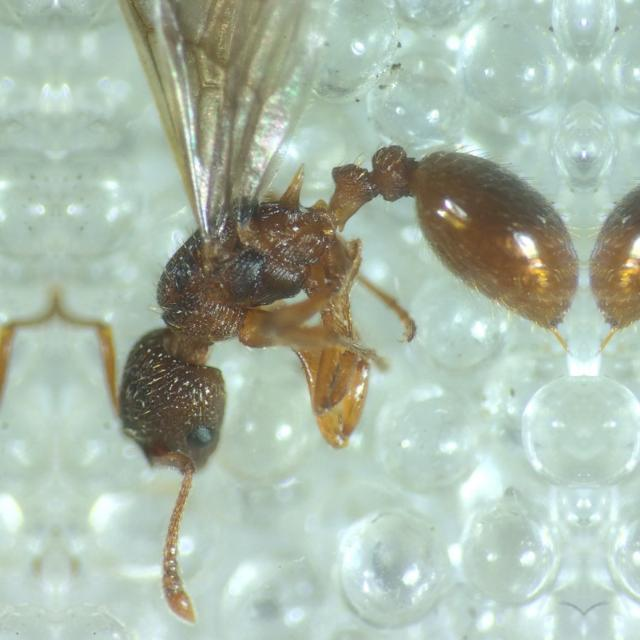Myrmica: (61, 78, 583, 548)
